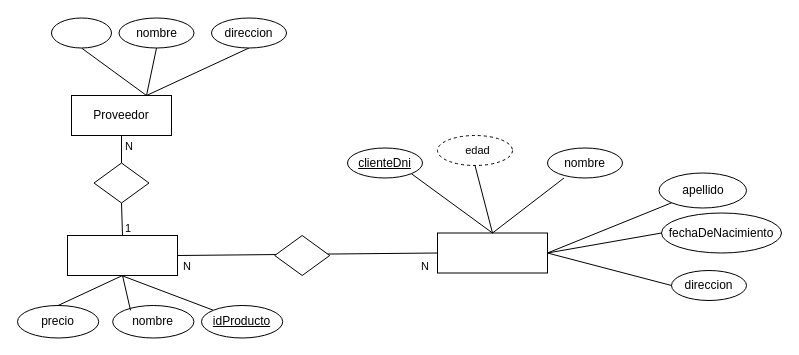
Some shapes in this 799 by 355 pixel diagram are drawn without their labels. The centre of each missing label's shape, as x and y in pixels:
Cliente: (492,252)
compra: (302,255)
dni: (81,32)
Producto: (122,255)
Provee: (121,182)
